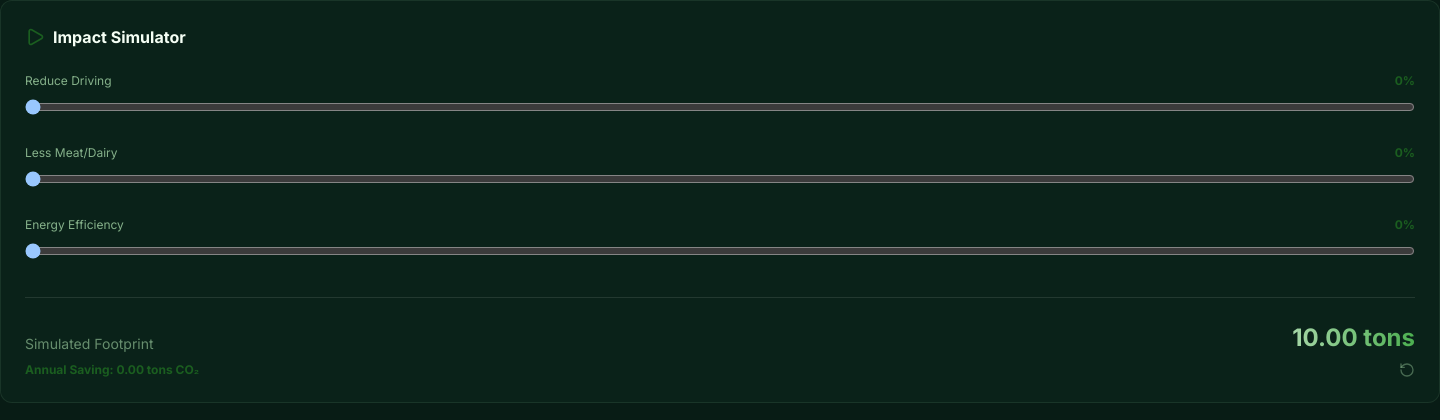
Scenario: CarbonSimulator Component › resets simulation
The image size is (1440, 420).
Step 1. Set the slider below "Reduce Driving" to "50" → (720, 107), box [25, 99, 1415, 115]
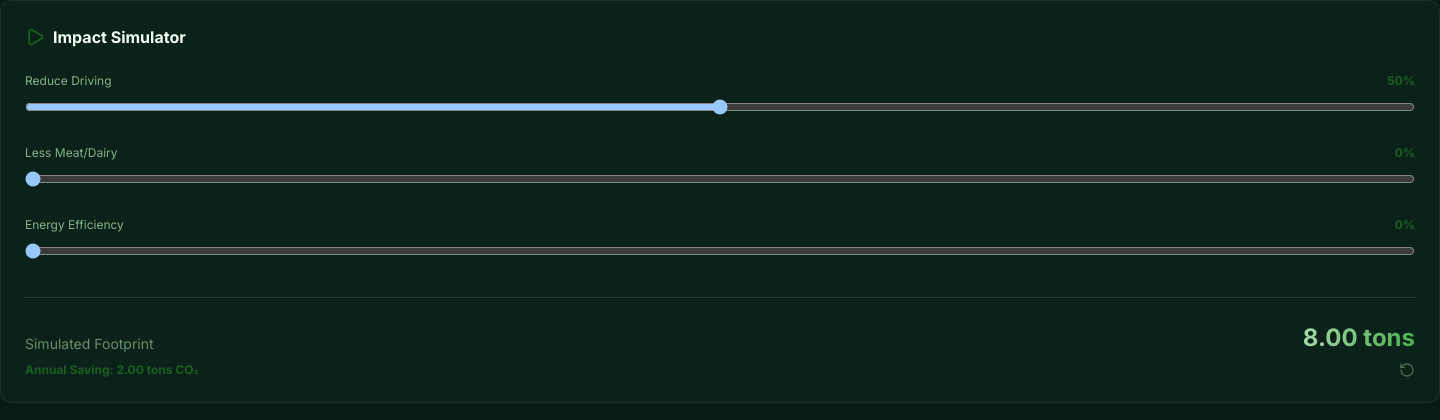
Step 2. Click the button → (1407, 370), box [1399, 362, 1415, 378]
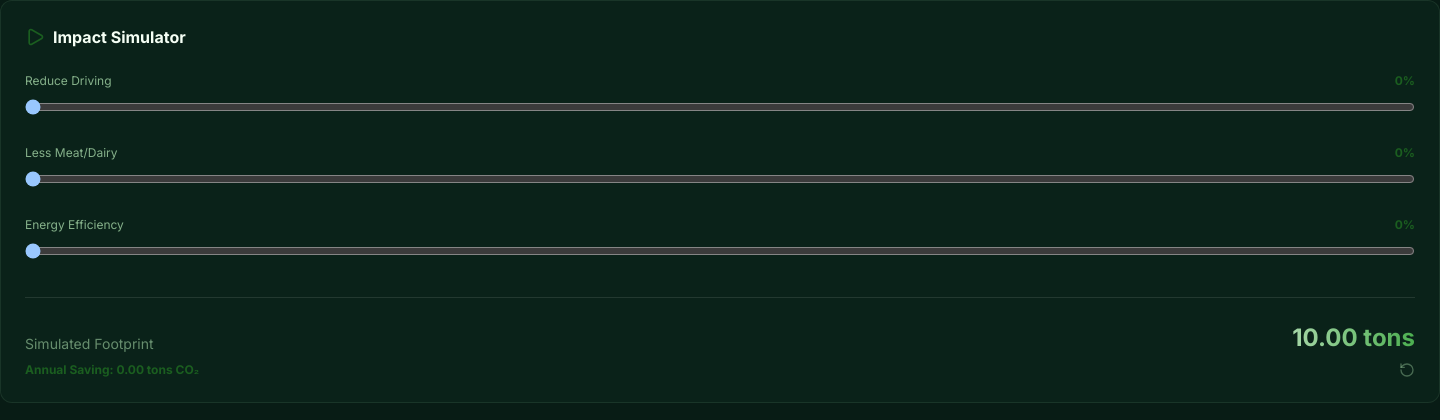
Now the text "10.00 tons" is shown, box [1292, 322, 1415, 354]
